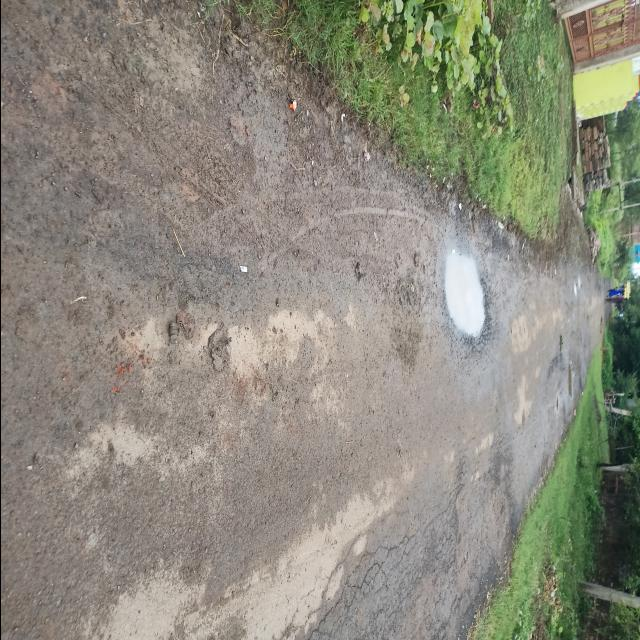potholes: (432, 239, 494, 347), (552, 352, 587, 400)
